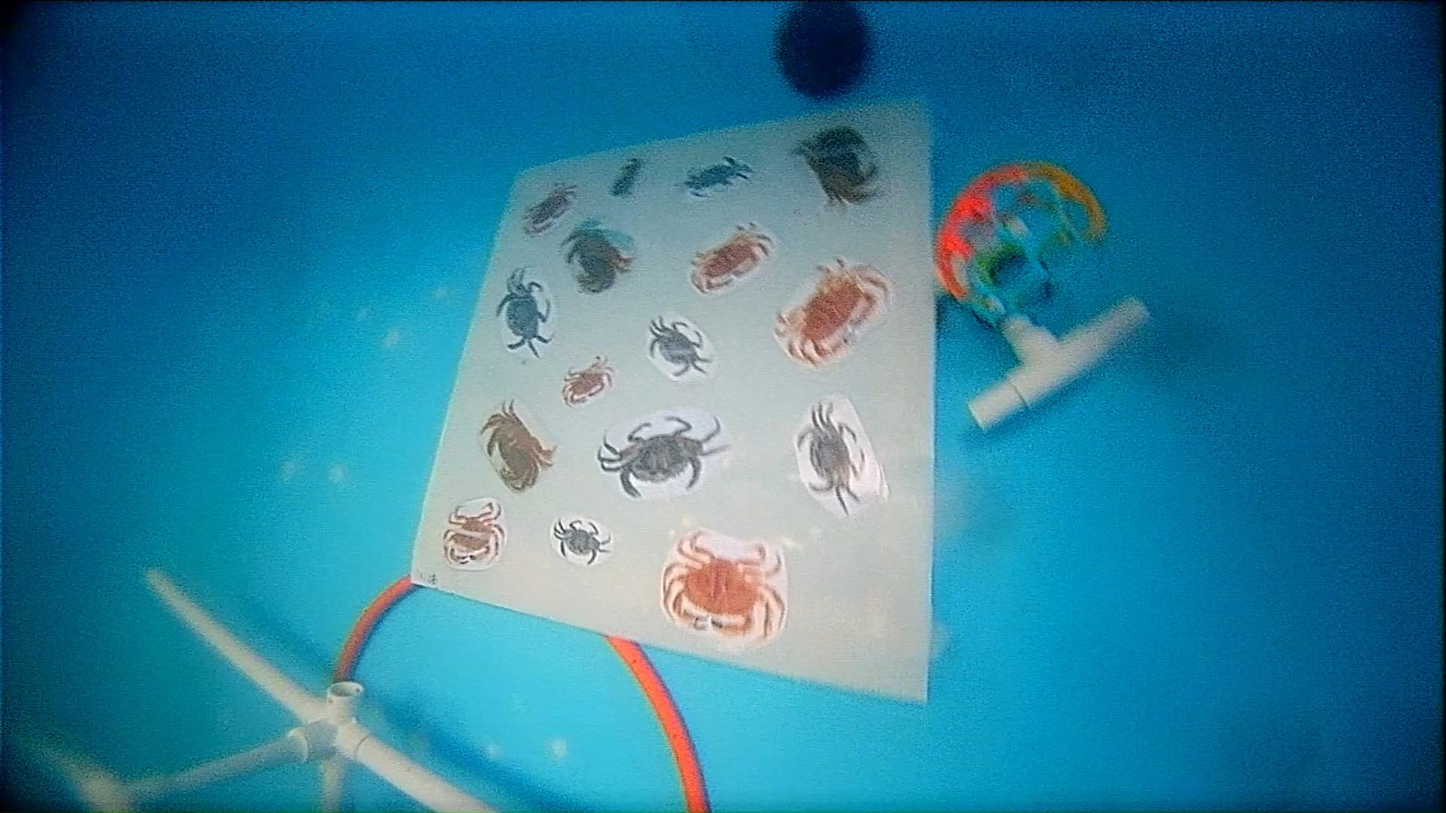GreenCrab: (598, 416, 728, 498), (795, 404, 861, 515), (497, 268, 551, 357), (648, 316, 711, 378), (554, 519, 610, 565), (684, 157, 750, 196)
